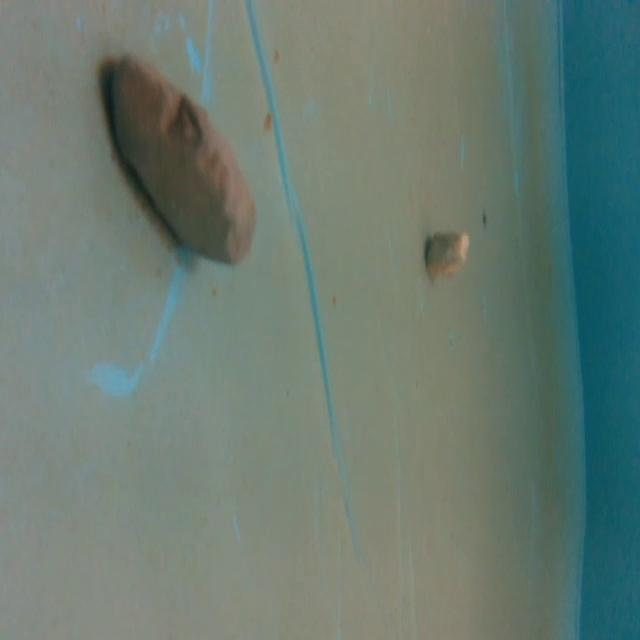rock: (102, 50, 266, 269), (424, 225, 472, 285)
